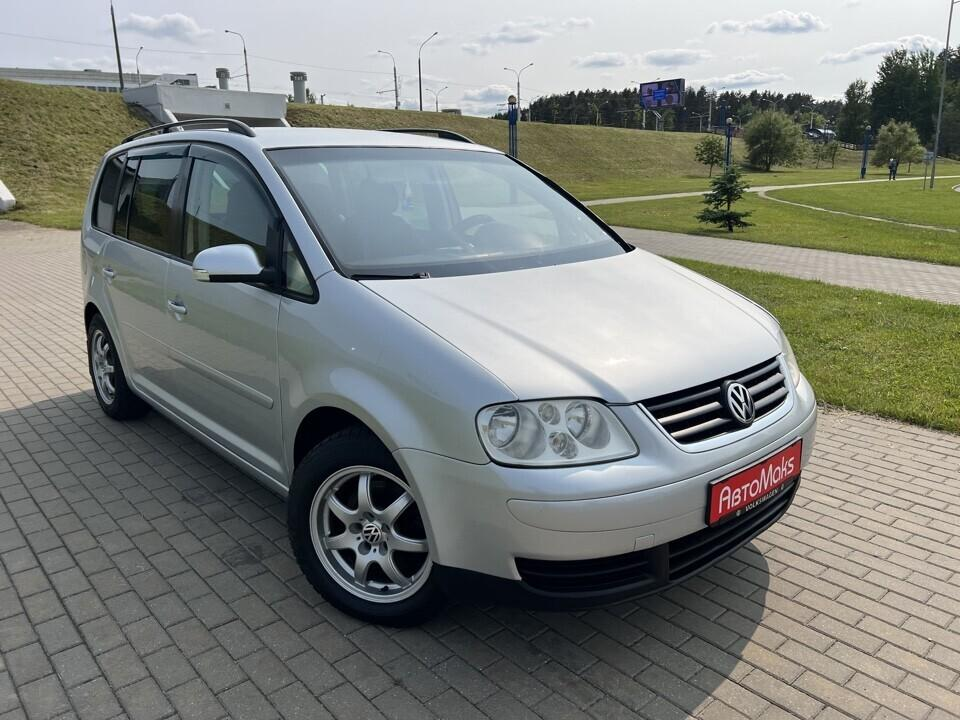Touran_2003-2006: (72, 124, 820, 622)
